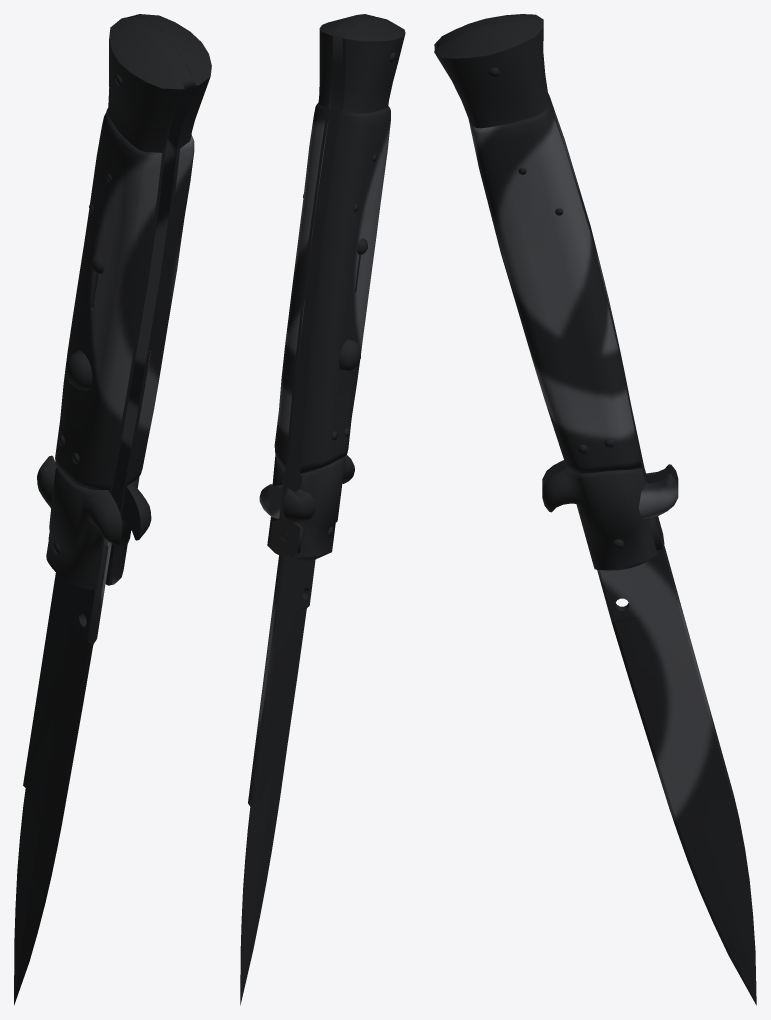
File: stiletto.glb
3 views of the same model, side by side, from view 1: azimuth 30°, elevation 25°; view 2: azimuth 150°, elevation 25°; view 3: azimuth 270°, elevation 25° (orthographic). The views are drawn at different scales.
Visible parts, largest first — view 1: Stiletto; view 2: Stiletto; view 3: Stiletto.
Boxes of the visible parts, x1,y1,x2,y2 form: Stiletto: [14, 14, 211, 1005]; Stiletto: [240, 14, 405, 1005]; Stiletto: [434, 14, 756, 1005].
Bounding box in the file's own units: 0.0358 × 0.4404 × 0.1305.
Materials: 1 (1 with a texture image).
